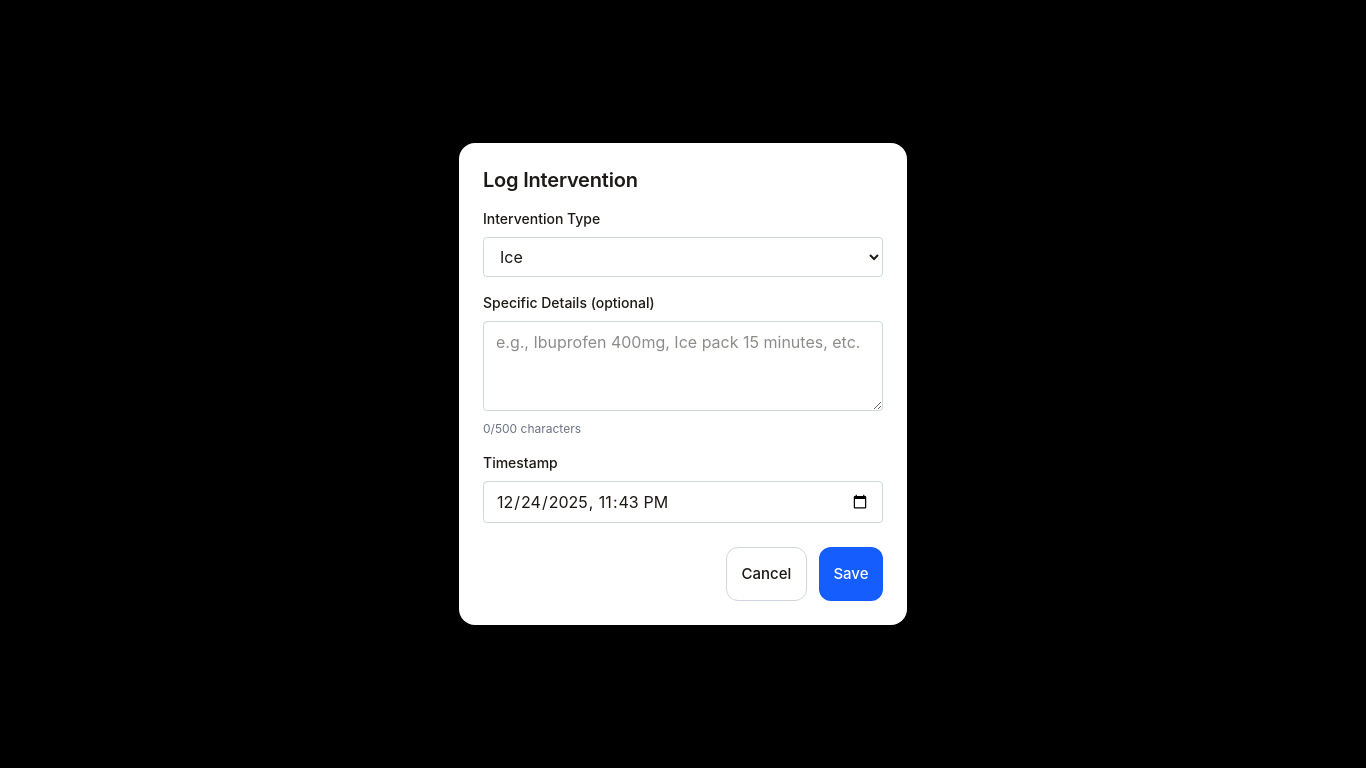
InterventionLogModal › Form Interaction (AC2.5.2) › displays character counter correctly
Type "Test" into the text box labelled "Specific Details (optional)". click: (683, 366)
box: [483,321,883,411]
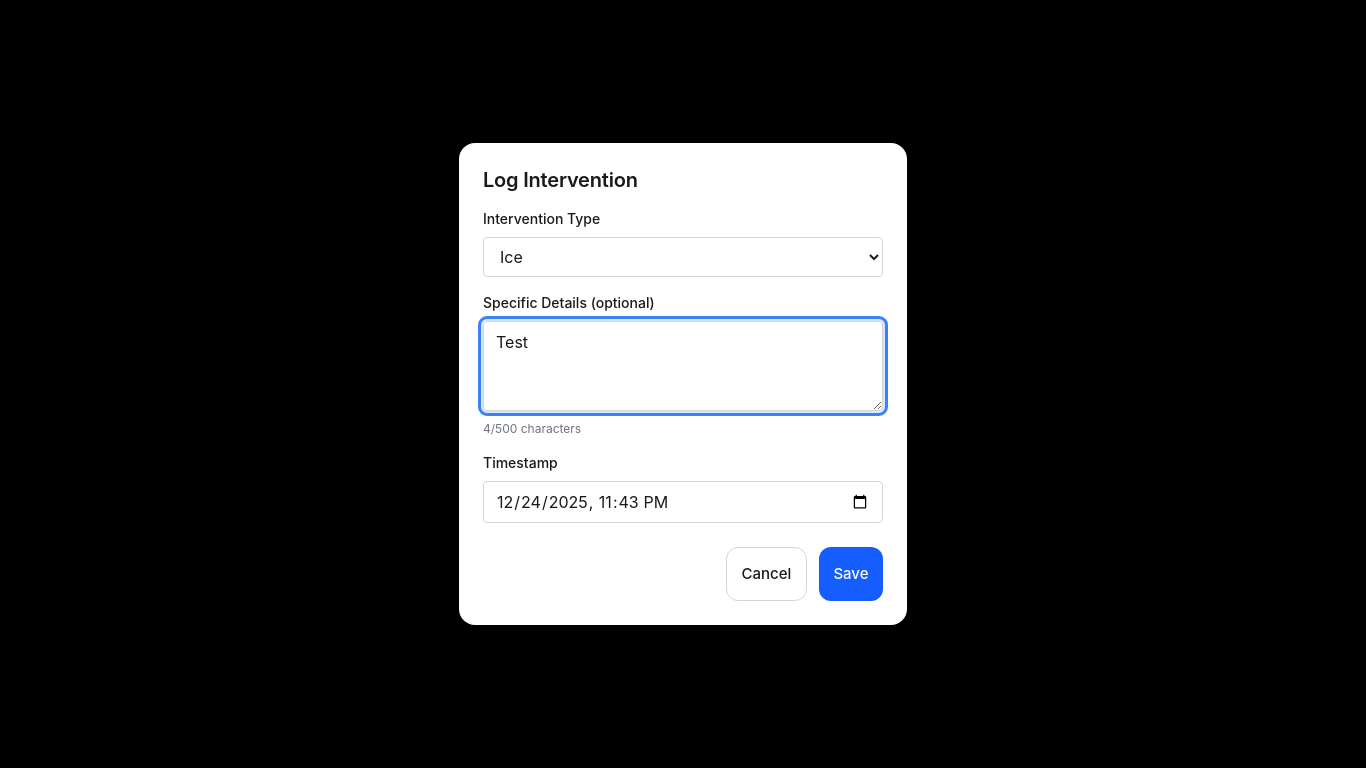
Check: the text "4/500 characters" is shown, box [483,421,581,436]
